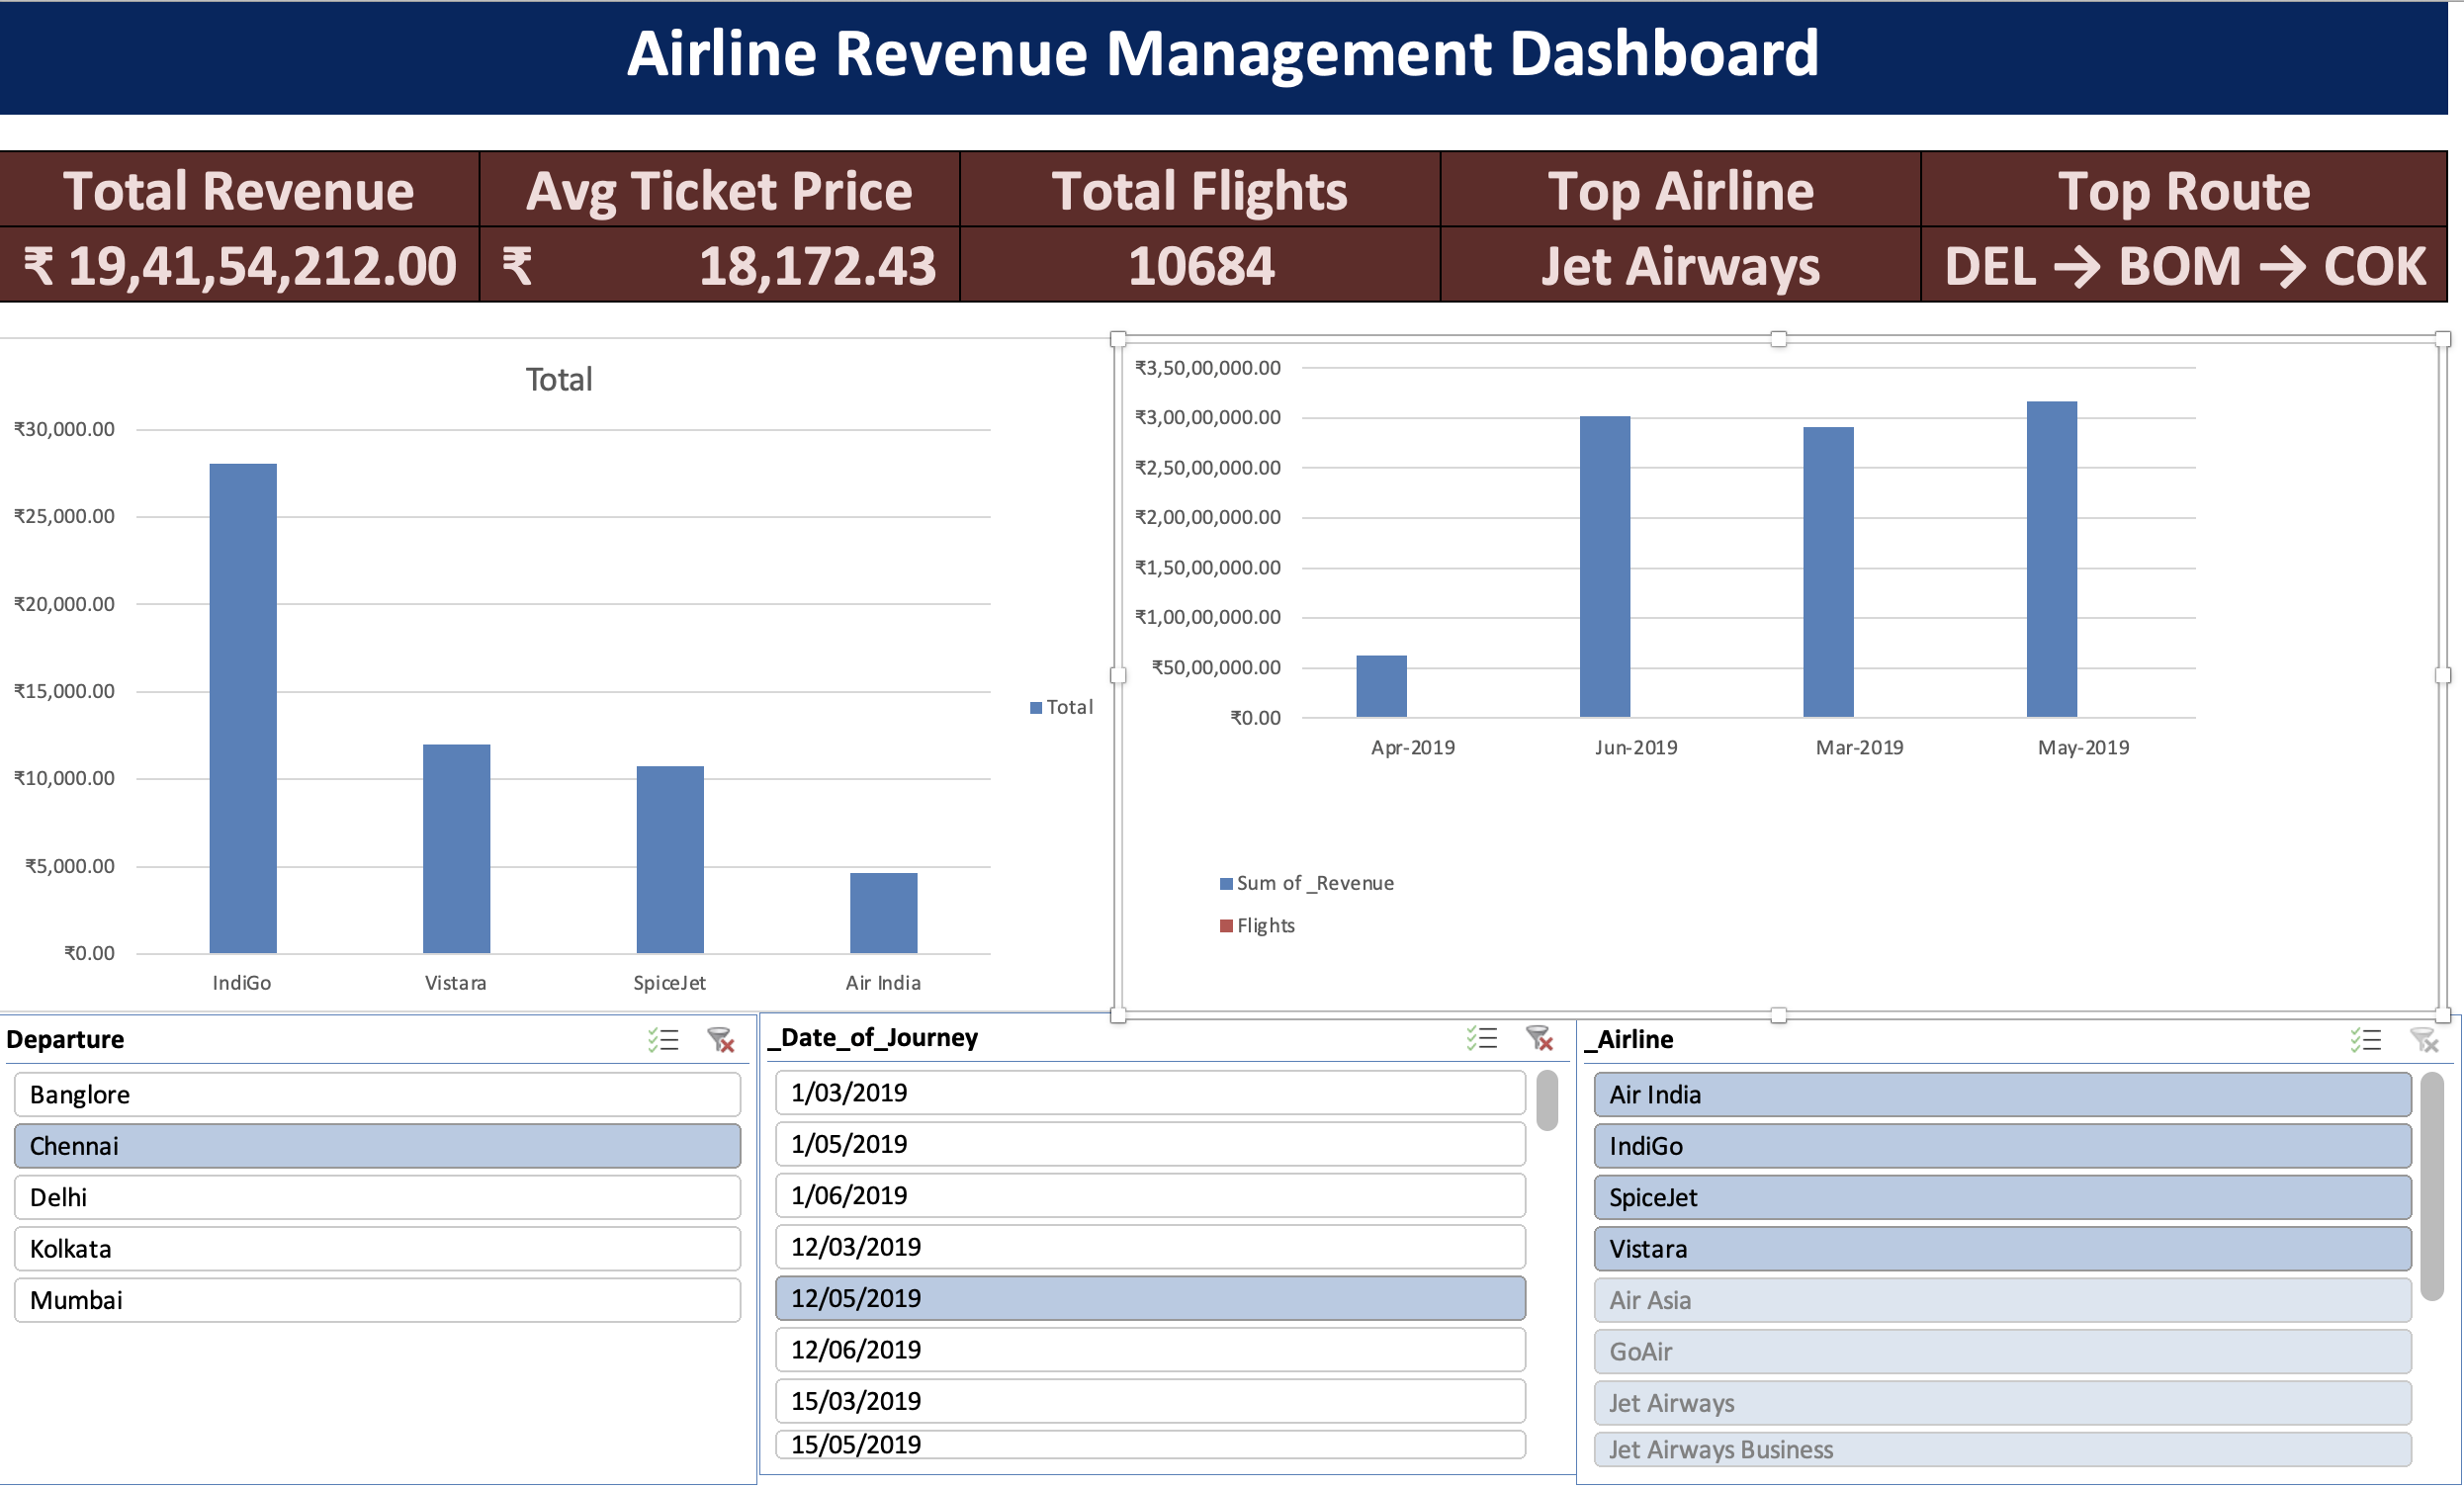

What the dashboard file says about the page in this screenshot:
{"tool":"powerbi","page":{"name":"Executive Summary","canvas":[1280,720],"ordinal":0},"visuals":[{"type":"textbox","box":[276.6,0,656.5,54.7],"z":0},{"type":"cardVisual","fields":{"Data":["_Measure.Total Revenue"]},"box":[28.1,68.8,159.4,107.2],"z":1000,"group":"g2"},{"type":"group","id":"g1","title":"Group 1","box":[27.9,188.9,1228.9,275.4],"z":1000},{"type":"group","id":"g2","title":"Group 2","box":[28.1,68.8,1228.5,107.8],"z":2000},{"type":"cardVisual","fields":{"Data":["_Measure.Avg Ticket Price"]},"box":[193.5,69.3,170.4,107.2],"z":2000,"group":"g2"},{"type":"cardVisual","fields":{"Data":["_Measure.Total Flights"]},"box":[369.8,69.9,145.4,107.2],"z":3000,"group":"g2"},{"type":"donutChart","title":"Revenue by price_band","fields":{"Category":["flights.price_band"],"Y":["_Measure.Total Revenue"]},"box":[779.9,479.8,476.7,240.7],"z":3000},{"type":"cardVisual","fields":{"Data":["_Measure.Premium %"]},"box":[521.1,70.4,139.1,107.2],"z":4000,"group":"g2"},{"type":"slicer","fields":{"Values":["flights.Airline"]},"box":[28.1,479.8,250.1,240.7],"z":4000},{"type":"cardVisual","fields":{"Data":["_Measure.Top Airline"]},"box":[666.1,71,226.6,107.2],"z":5000,"group":"g2"},{"type":"slicer","fields":{"Values":["flights.journey_month"]},"box":[278.2,479.8,231.3,240.7],"z":5000},{"type":"cardVisual","fields":{"Data":["_Measure.Top Route"]},"box":[898.7,71.5,357.9,105.7],"z":6000,"group":"g2"},{"type":"slicer","fields":{"Values":["flights.Source"]},"box":[509.5,479.8,259.5,240.7],"z":6000},{"type":"clusteredBarChart","title":"Revenue by Airline","fields":{"Category":["flights.Airline"],"Y":["_Measure.Total Revenue"]},"box":[27.9,188.9,576.7,275.1],"z":7000,"group":"g1"},{"type":"lineClusteredColumnComboChart","title":"Monthly Revenue vs Avg Price","fields":{"Category":["flights.journey_month"],"Y":["_Measure.Total Revenue"],"Y2":["_Measure.Avg Ticket Price"]},"box":[666,189.3,590.8,275],"z":8000,"group":"g1"}]}

Visuals, with their boxes on the page's 1280x720 design canvas (x1, y1, x2, y2). These are canvas units, not pixel positions in the 2464x1489 screenshot, which may show the page scaled, cropped or inside an application window:
textbox: 277/0/933/55
cardVisual - _Measure.Total Revenue: 28/69/188/176
"Group 1" group: 28/189/1257/464
"Group 2" group: 28/69/1257/177
cardVisual - _Measure.Avg Ticket Price: 194/69/364/176
cardVisual - _Measure.Total Flights: 370/70/515/177
"Revenue by price_band" donutChart: 780/480/1257/720
cardVisual - _Measure.Premium %: 521/70/660/178
slicer - flights.Airline: 28/480/278/720
cardVisual - _Measure.Top Airline: 666/71/893/178
slicer - flights.journey_month: 278/480/510/720
cardVisual - _Measure.Top Route: 899/72/1257/177
slicer - flights.Source: 510/480/769/720
"Revenue by Airline" clusteredBarChart: 28/189/605/464
"Monthly Revenue vs Avg Price" lineClusteredColumnComboChart: 666/189/1257/464
